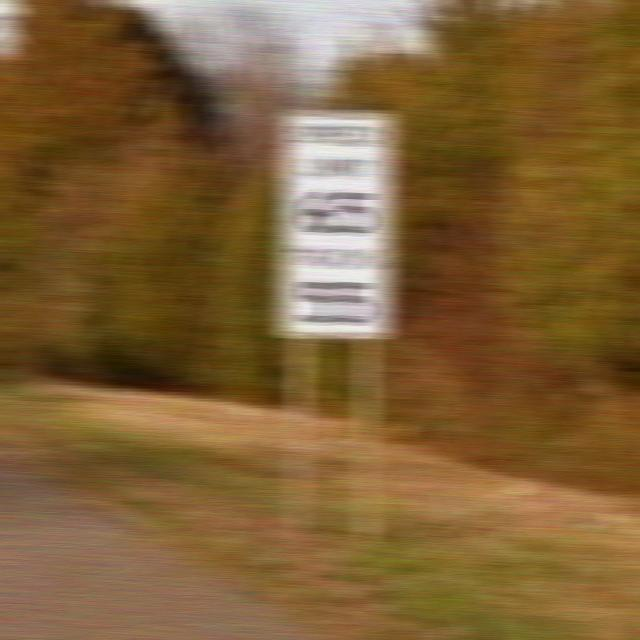speedLimit65: (276, 111, 396, 254)
